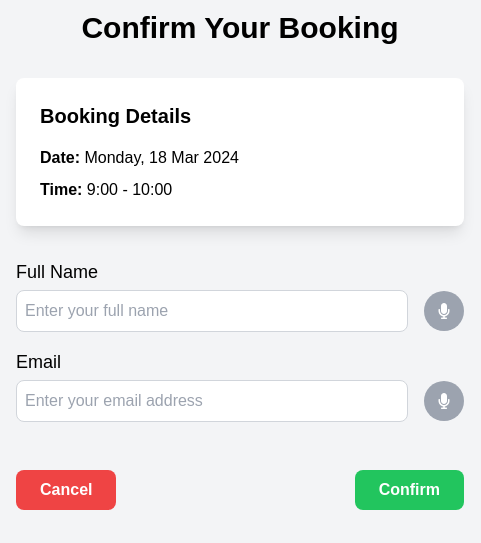
Test: ConfirmationPage › displays API error when booking creation fails
Type "Test User" into the field labelled "Full Name" at (212, 311), box [16,290,408,332]
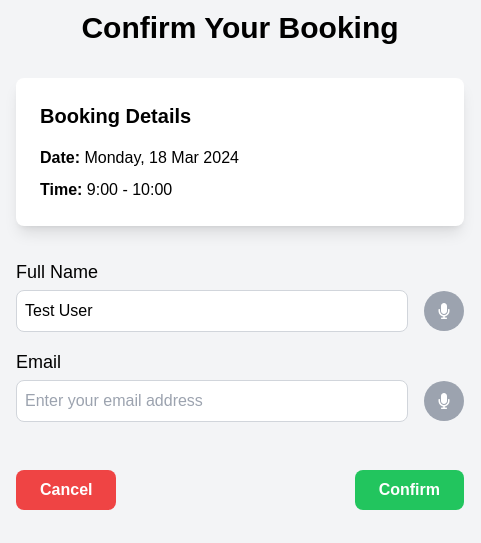
Type "test@example.com" into the field labelled "Email" at (212, 401), box [16,380,408,422]
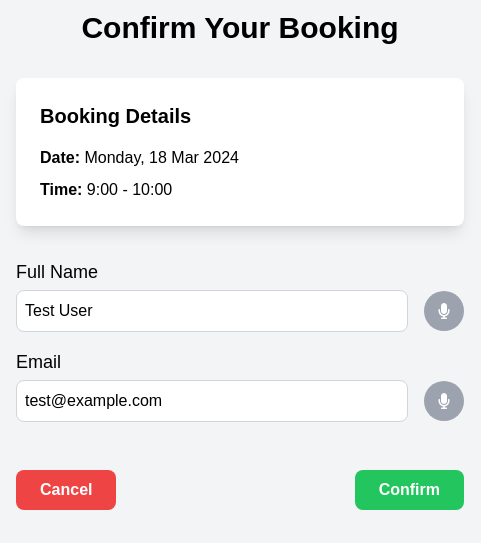
Click the button "Confirm" at (409, 490), box [355,470,464,510]
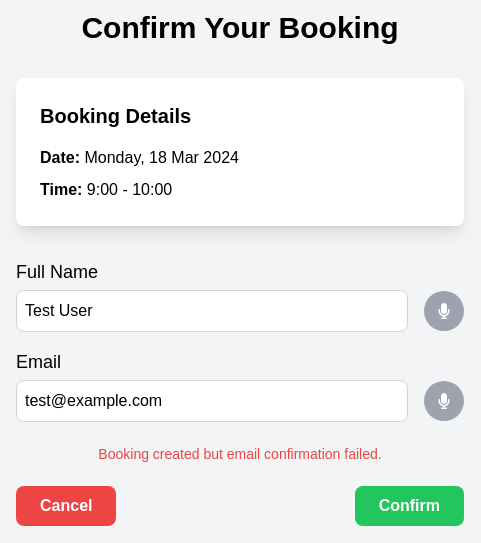
Result: the text "Booking created but email confirmation failed." is shown at [98,444,382,464]
